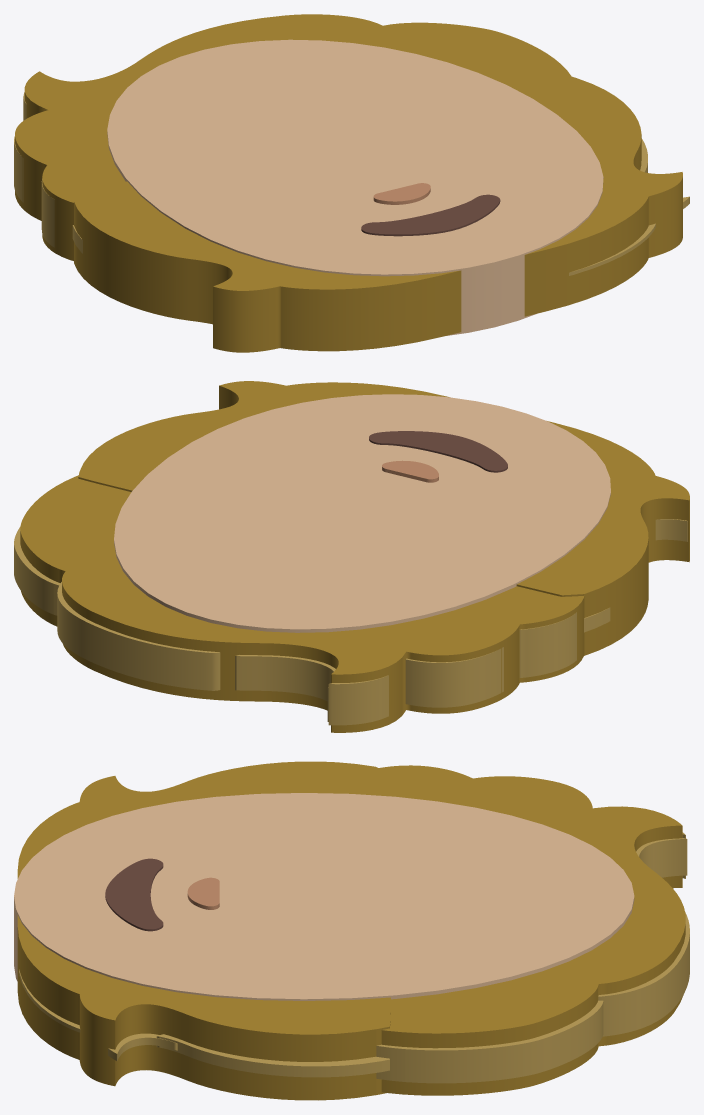
File: emoji_u1f9d1_1f3fc.glb
The picture shows the model from 3 angles, top to bottom: view 1: azimuth 30°, elevation 25°; view 2: azimuth 150°, elevation 25°; view 3: azimuth 270°, elevation 25°; orthographic projection. The views are drawn at different scales.
Visible parts, largest first — view 1: emoji_u1f9d1_1f3fc; view 2: emoji_u1f9d1_1f3fc; view 3: emoji_u1f9d1_1f3fc.
Boxes of the visible parts, x1,y1,x2,y2 form: emoji_u1f9d1_1f3fc: (14, 14, 689, 352); emoji_u1f9d1_1f3fc: (14, 381, 689, 732); emoji_u1f9d1_1f3fc: (14, 761, 689, 1100).
Bounding box in the file's own units: 0.0325 × 0.0042 × 0.0335.
